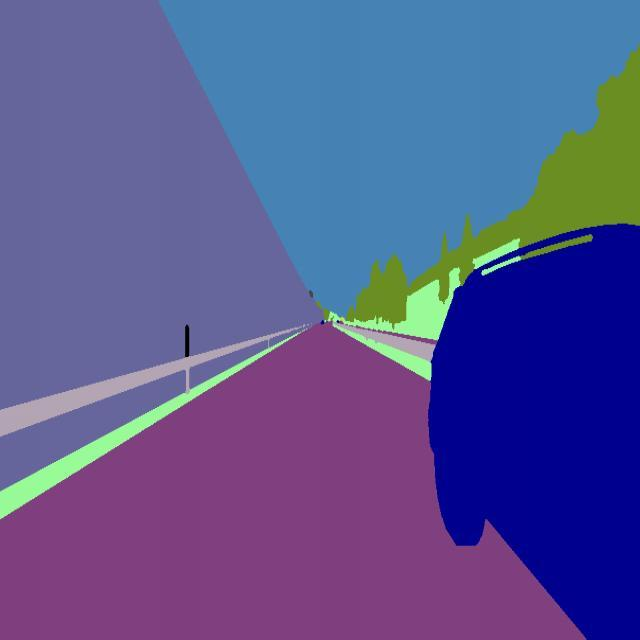unsafe: (425, 205, 640, 640)
